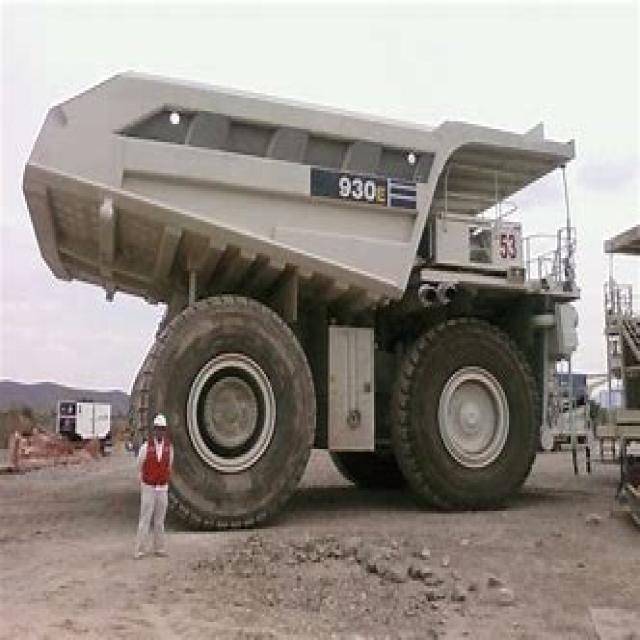dump_truck: (25, 54, 592, 537)
